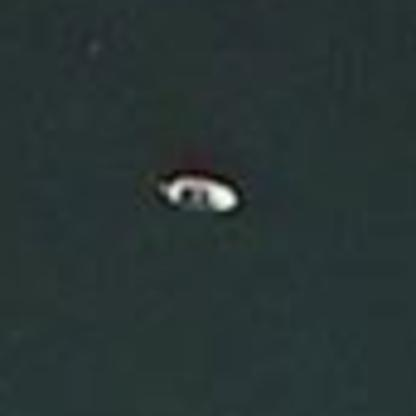ship: (150, 174, 242, 214)
